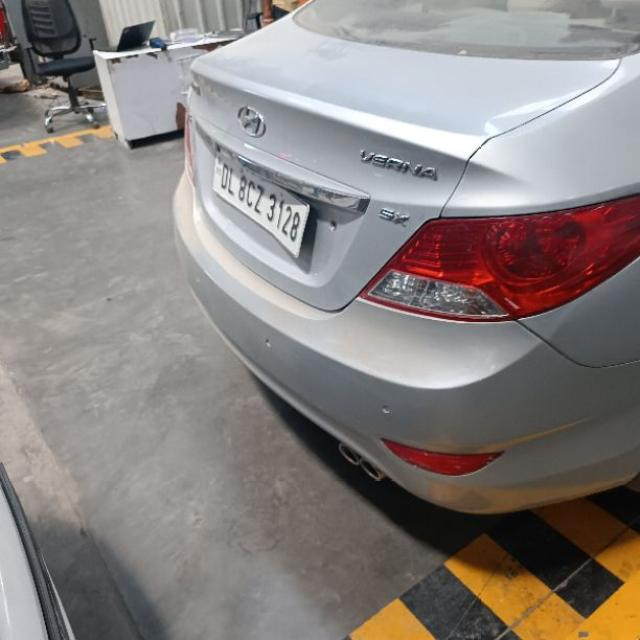license_plate: (210, 143, 311, 260)
